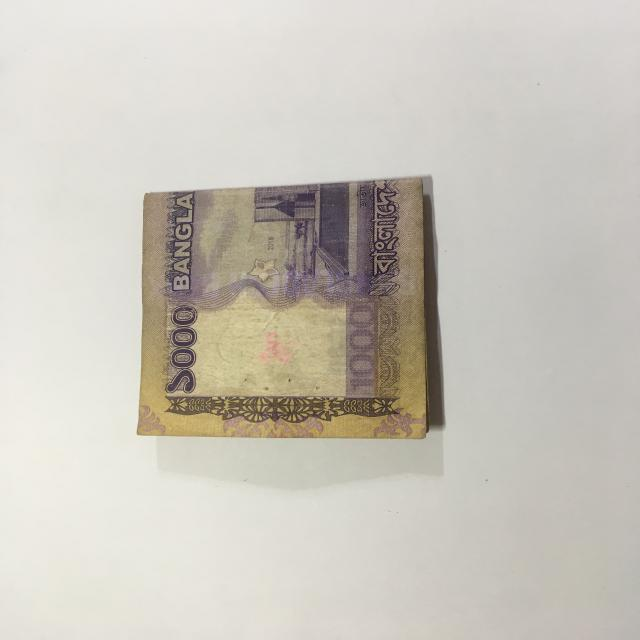Taka: (131, 178, 451, 452)
